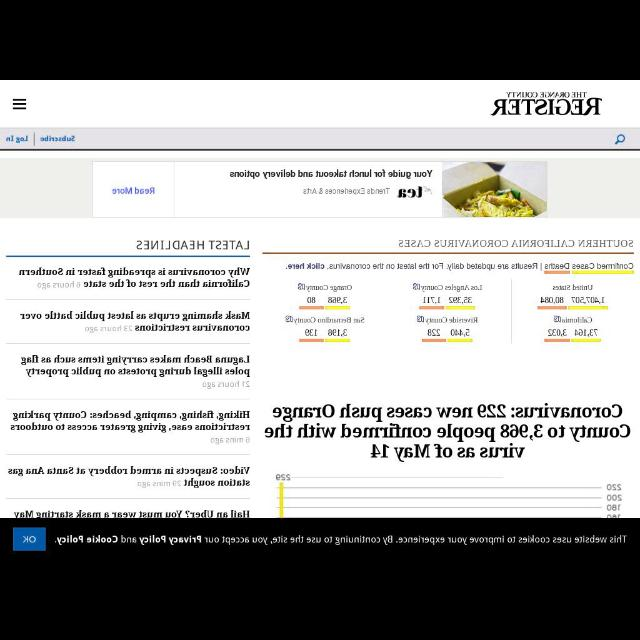icon: (12, 96, 28, 114), (612, 132, 626, 146)
iframe: (92, 160, 548, 218), (1, 520, 639, 558)
image: (278, 260, 638, 388), (265, 476, 635, 518), (486, 89, 602, 121)
text: (262, 401, 638, 467), (18, 351, 252, 389), (8, 410, 252, 446), (15, 264, 251, 296), (8, 464, 252, 491), (17, 307, 252, 335), (391, 238, 635, 250), (14, 506, 250, 518), (137, 238, 251, 254), (39, 133, 77, 143), (6, 132, 28, 144)
toolbar: (1, 80, 638, 150)
